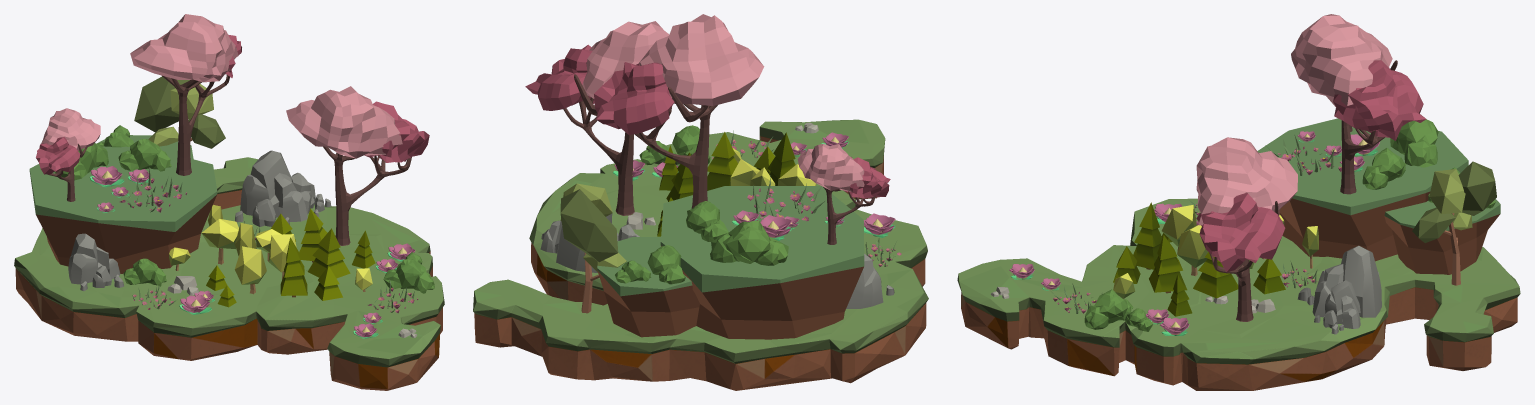
The model's file is flower-island.glb.
3 views of the same model, side by side, from view 1: azimuth 30°, elevation 25°; view 2: azimuth 150°, elevation 25°; view 3: azimuth 270°, elevation 25° (orthographic). The views are drawn at different scales.
Parts seen in each view (by area): view 1: floating_island_1.1_1, Island01_Cylinder, forest, CommonTree_Autumn_2, CommonTree_Autumn_2.002, tree01, Resource_Rock_1.001, CommonTree_Autumn_2.001, Resource_Rock_1, Node.005, Node.001, Node (+8 smaller); view 2: floating_island_1.1_1, Island01_Cylinder, CommonTree_Autumn_2.002, CommonTree_Autumn_2, Island01_Cylinder.001, forest, tree01, CommonTree_Autumn_2.001, Node.006, Resource_Rock_1, Node.005, Node.003 (+8 smaller); view 3: floating_island_1.1_1, Island01_Cylinder, CommonTree_Autumn_2.002, CommonTree_Autumn_2, forest, tree01, Island01_Cylinder.001, Resource_Rock_1.001, Node.006, Resource_Rock_1.002, Node.001, Node.005 (+1 smaller).
Part boxes in pixels (x1,y1,x2,y2): floating_island_1.1_1: (14, 157, 444, 390); Island01_Cylinder: (29, 146, 217, 273); forest: (169, 205, 375, 307); CommonTree_Autumn_2: (286, 86, 429, 245); CommonTree_Autumn_2.002: (130, 14, 241, 175); tree01: (134, 76, 225, 148); Resource_Rock_1.001: (235, 150, 307, 226); CommonTree_Autumn_2.001: (36, 108, 100, 201); Resource_Rock_1: (68, 233, 123, 291); Node.005: (118, 139, 171, 171); Node.001: (383, 259, 434, 293); Node: (123, 258, 166, 286); floating_island_1.1_1: (473, 119, 928, 390); Island01_Cylinder: (660, 186, 864, 339); CommonTree_Autumn_2.002: (594, 14, 764, 208); CommonTree_Autumn_2: (525, 21, 669, 215); Island01_Cylinder.001: (597, 237, 699, 337); forest: (657, 132, 816, 236); tree01: (560, 183, 626, 313); CommonTree_Autumn_2.001: (797, 143, 890, 244); Node.006: (710, 220, 788, 265); Resource_Rock_1: (846, 253, 894, 308); Node.005: (686, 201, 728, 241); Node.003: (647, 245, 685, 284); floating_island_1.1_1: (957, 198, 1520, 390); Island01_Cylinder: (1257, 118, 1468, 261); CommonTree_Autumn_2.002: (1291, 14, 1426, 194); CommonTree_Autumn_2: (1196, 137, 1297, 321); forest: (1113, 202, 1318, 316); tree01: (1412, 161, 1496, 285); Island01_Cylinder.001: (1384, 199, 1500, 274); Resource_Rock_1.001: (1297, 245, 1381, 317); Node.006: (1390, 119, 1438, 167); Resource_Rock_1.002: (1314, 280, 1360, 334); Node.001: (1084, 289, 1133, 329); Node.005: (1362, 148, 1406, 189).
Bounding box in the file's own units: 4.58 × 3.22 × 5.8.
Materials: 17 (3 with a texture image).
